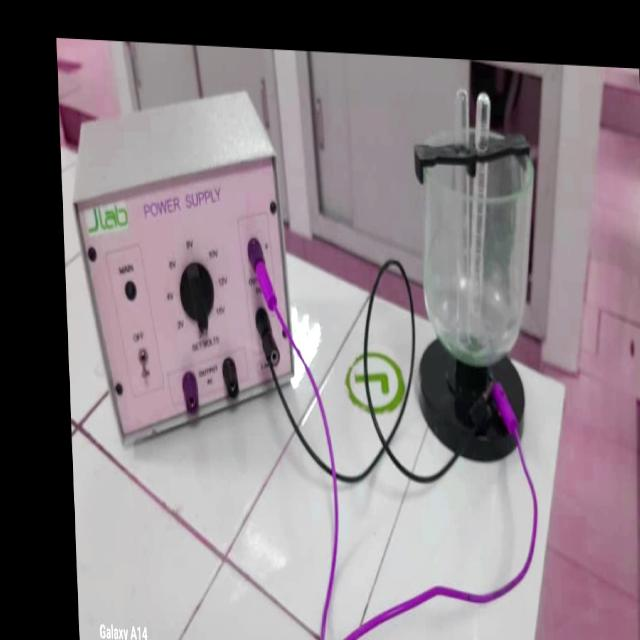Electrolyzer: (404, 91, 552, 462)
